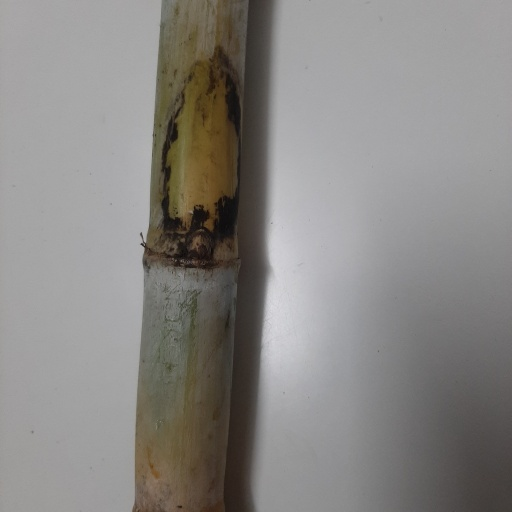Bud: (182, 229, 215, 259)
